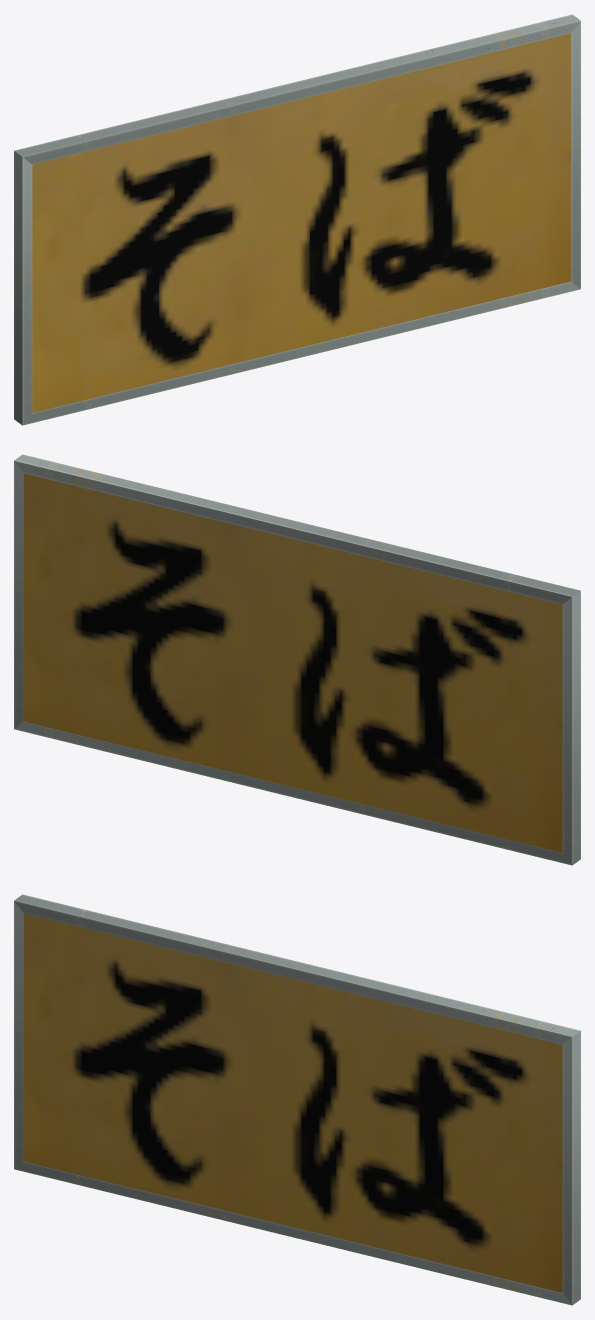
File: shopboard06c.fbx
3 renders of one model, top to bottom at view 1: azimuth 30°, elevation 25°; view 2: azimuth 150°, elevation 25°; view 3: azimuth 330°, elevation 25°, orthographic.
Parts seen in each view (by area): view 1: shopboard06c; view 2: shopboard06c; view 3: shopboard06c.
Boxes of the visible parts, x1,y1,x2,y2 form: shopboard06c: (14, 14, 580, 425); shopboard06c: (14, 454, 580, 865); shopboard06c: (14, 894, 580, 1305).
Size of the model in its own units: 94.39 by 43.39 by 2.51.
